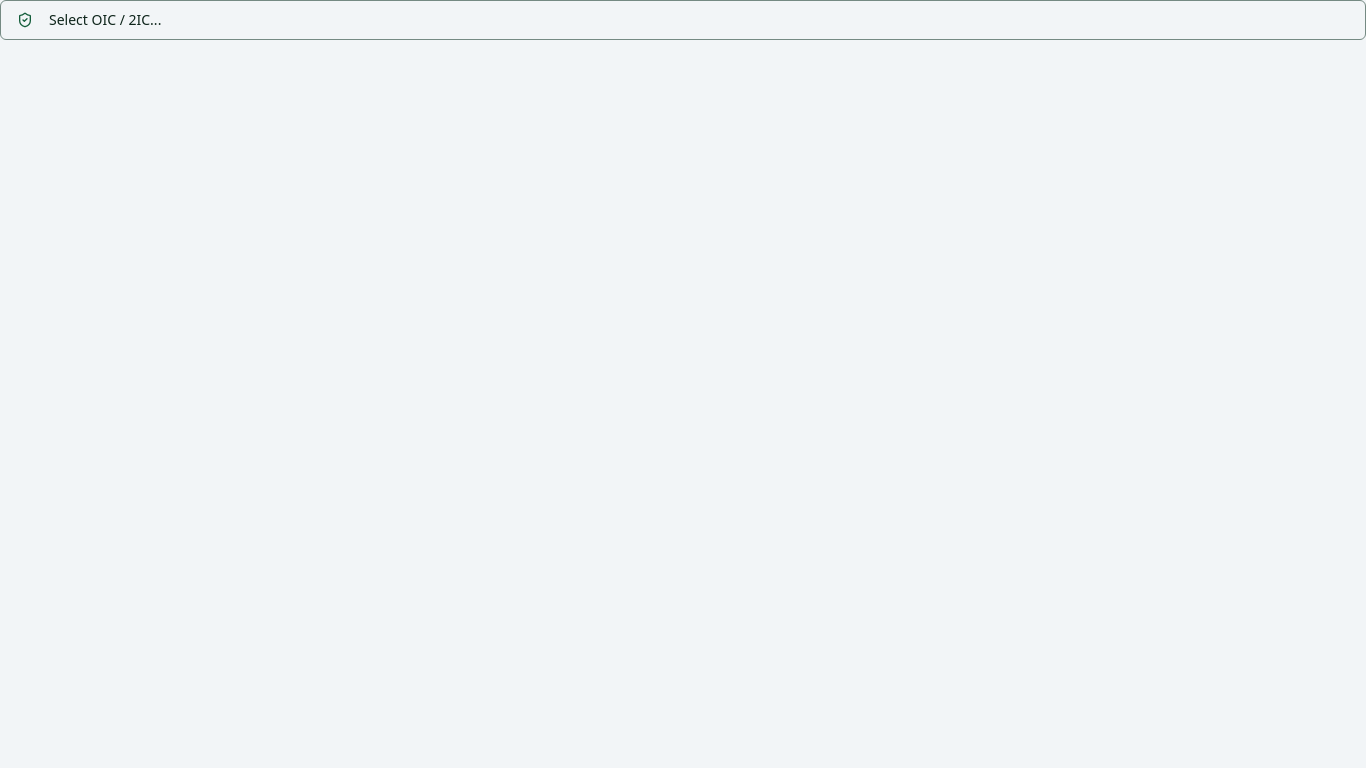
Test: AuthorisedByPicker — keyboard navigation › highlights the first option when the dialog opens
Click the button "Select OIC / 2IC..." at (105, 20), box [0, 0, 1365, 40]
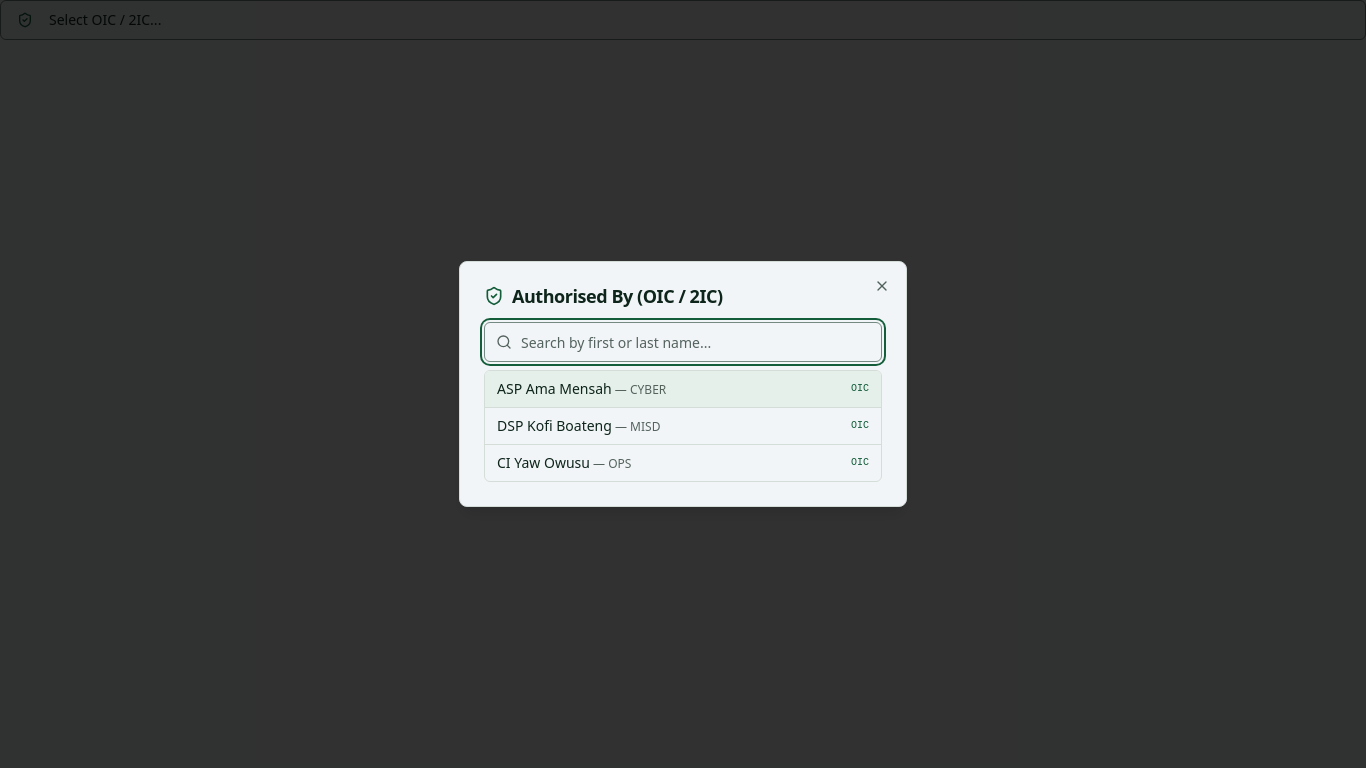
Expected: the text "ASP Ama Mensah — CYBER" is shown, [497, 379, 666, 399]
